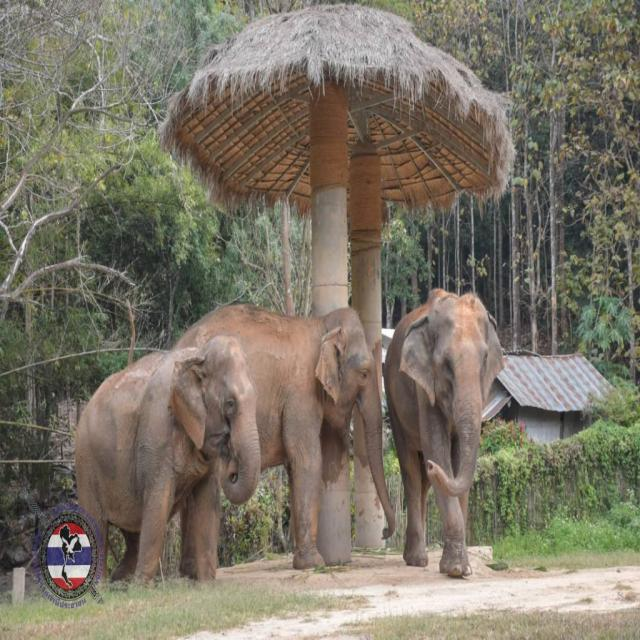Elephant: (184, 295, 388, 575), (72, 340, 263, 600), (393, 276, 510, 582)
